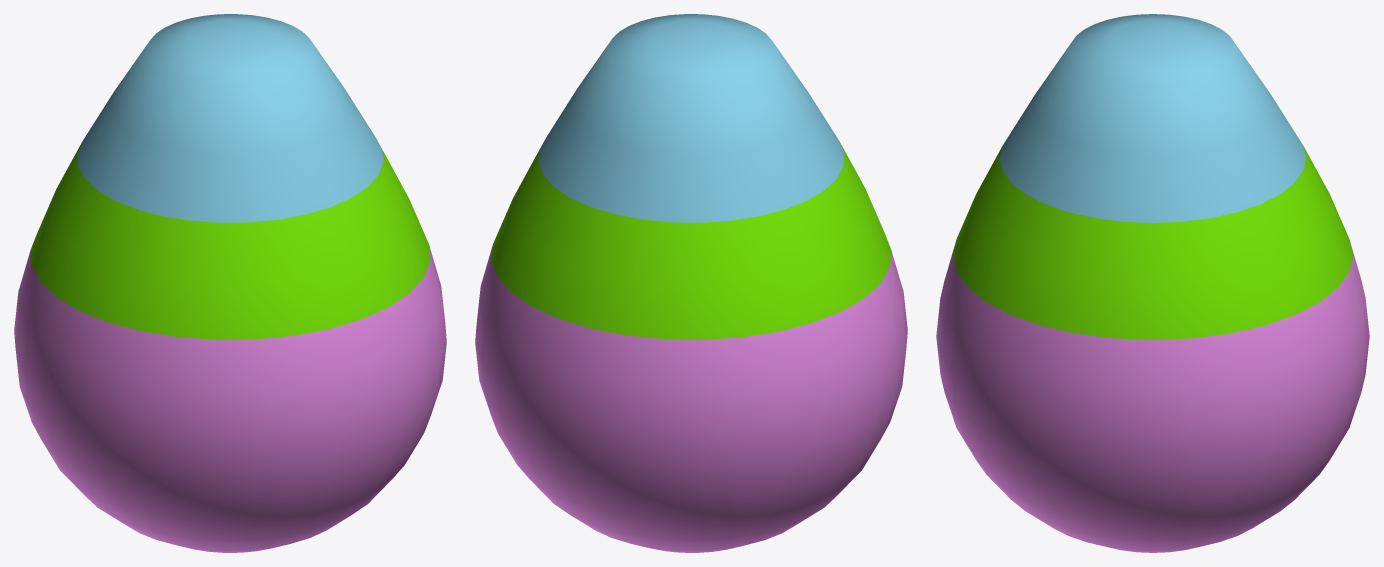
File: reflectiveegg.gltf
3 renders of one model, left to right at view 1: azimuth 30°, elevation 25°; view 2: azimuth 150°, elevation 25°; view 3: azimuth 270°, elevation 25°, orthographic.
Parts seen in each view (by area): view 1: Sphere; view 2: Sphere; view 3: Sphere.
Part boxes in pixels (x1,y1,x2,y2): Sphere: (14,14,446,552); Sphere: (475,14,907,552); Sphere: (936,14,1369,552).
Size of the model in its own units: 1.29 by 1.64 by 1.29.
